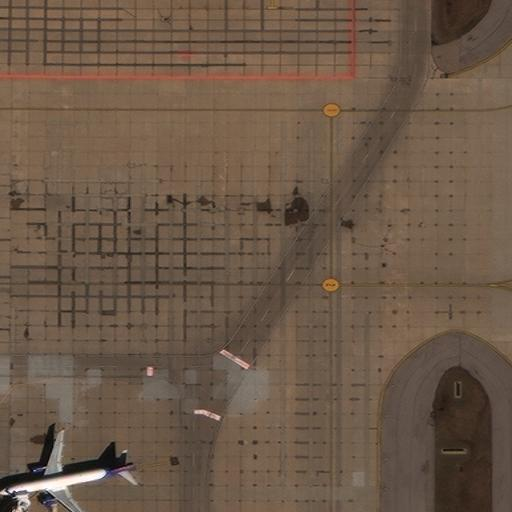Medium Civil Transport: (0, 431, 134, 511)
